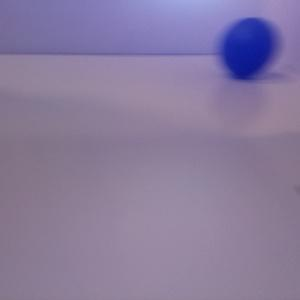dead_ball: (221, 17, 276, 77)
